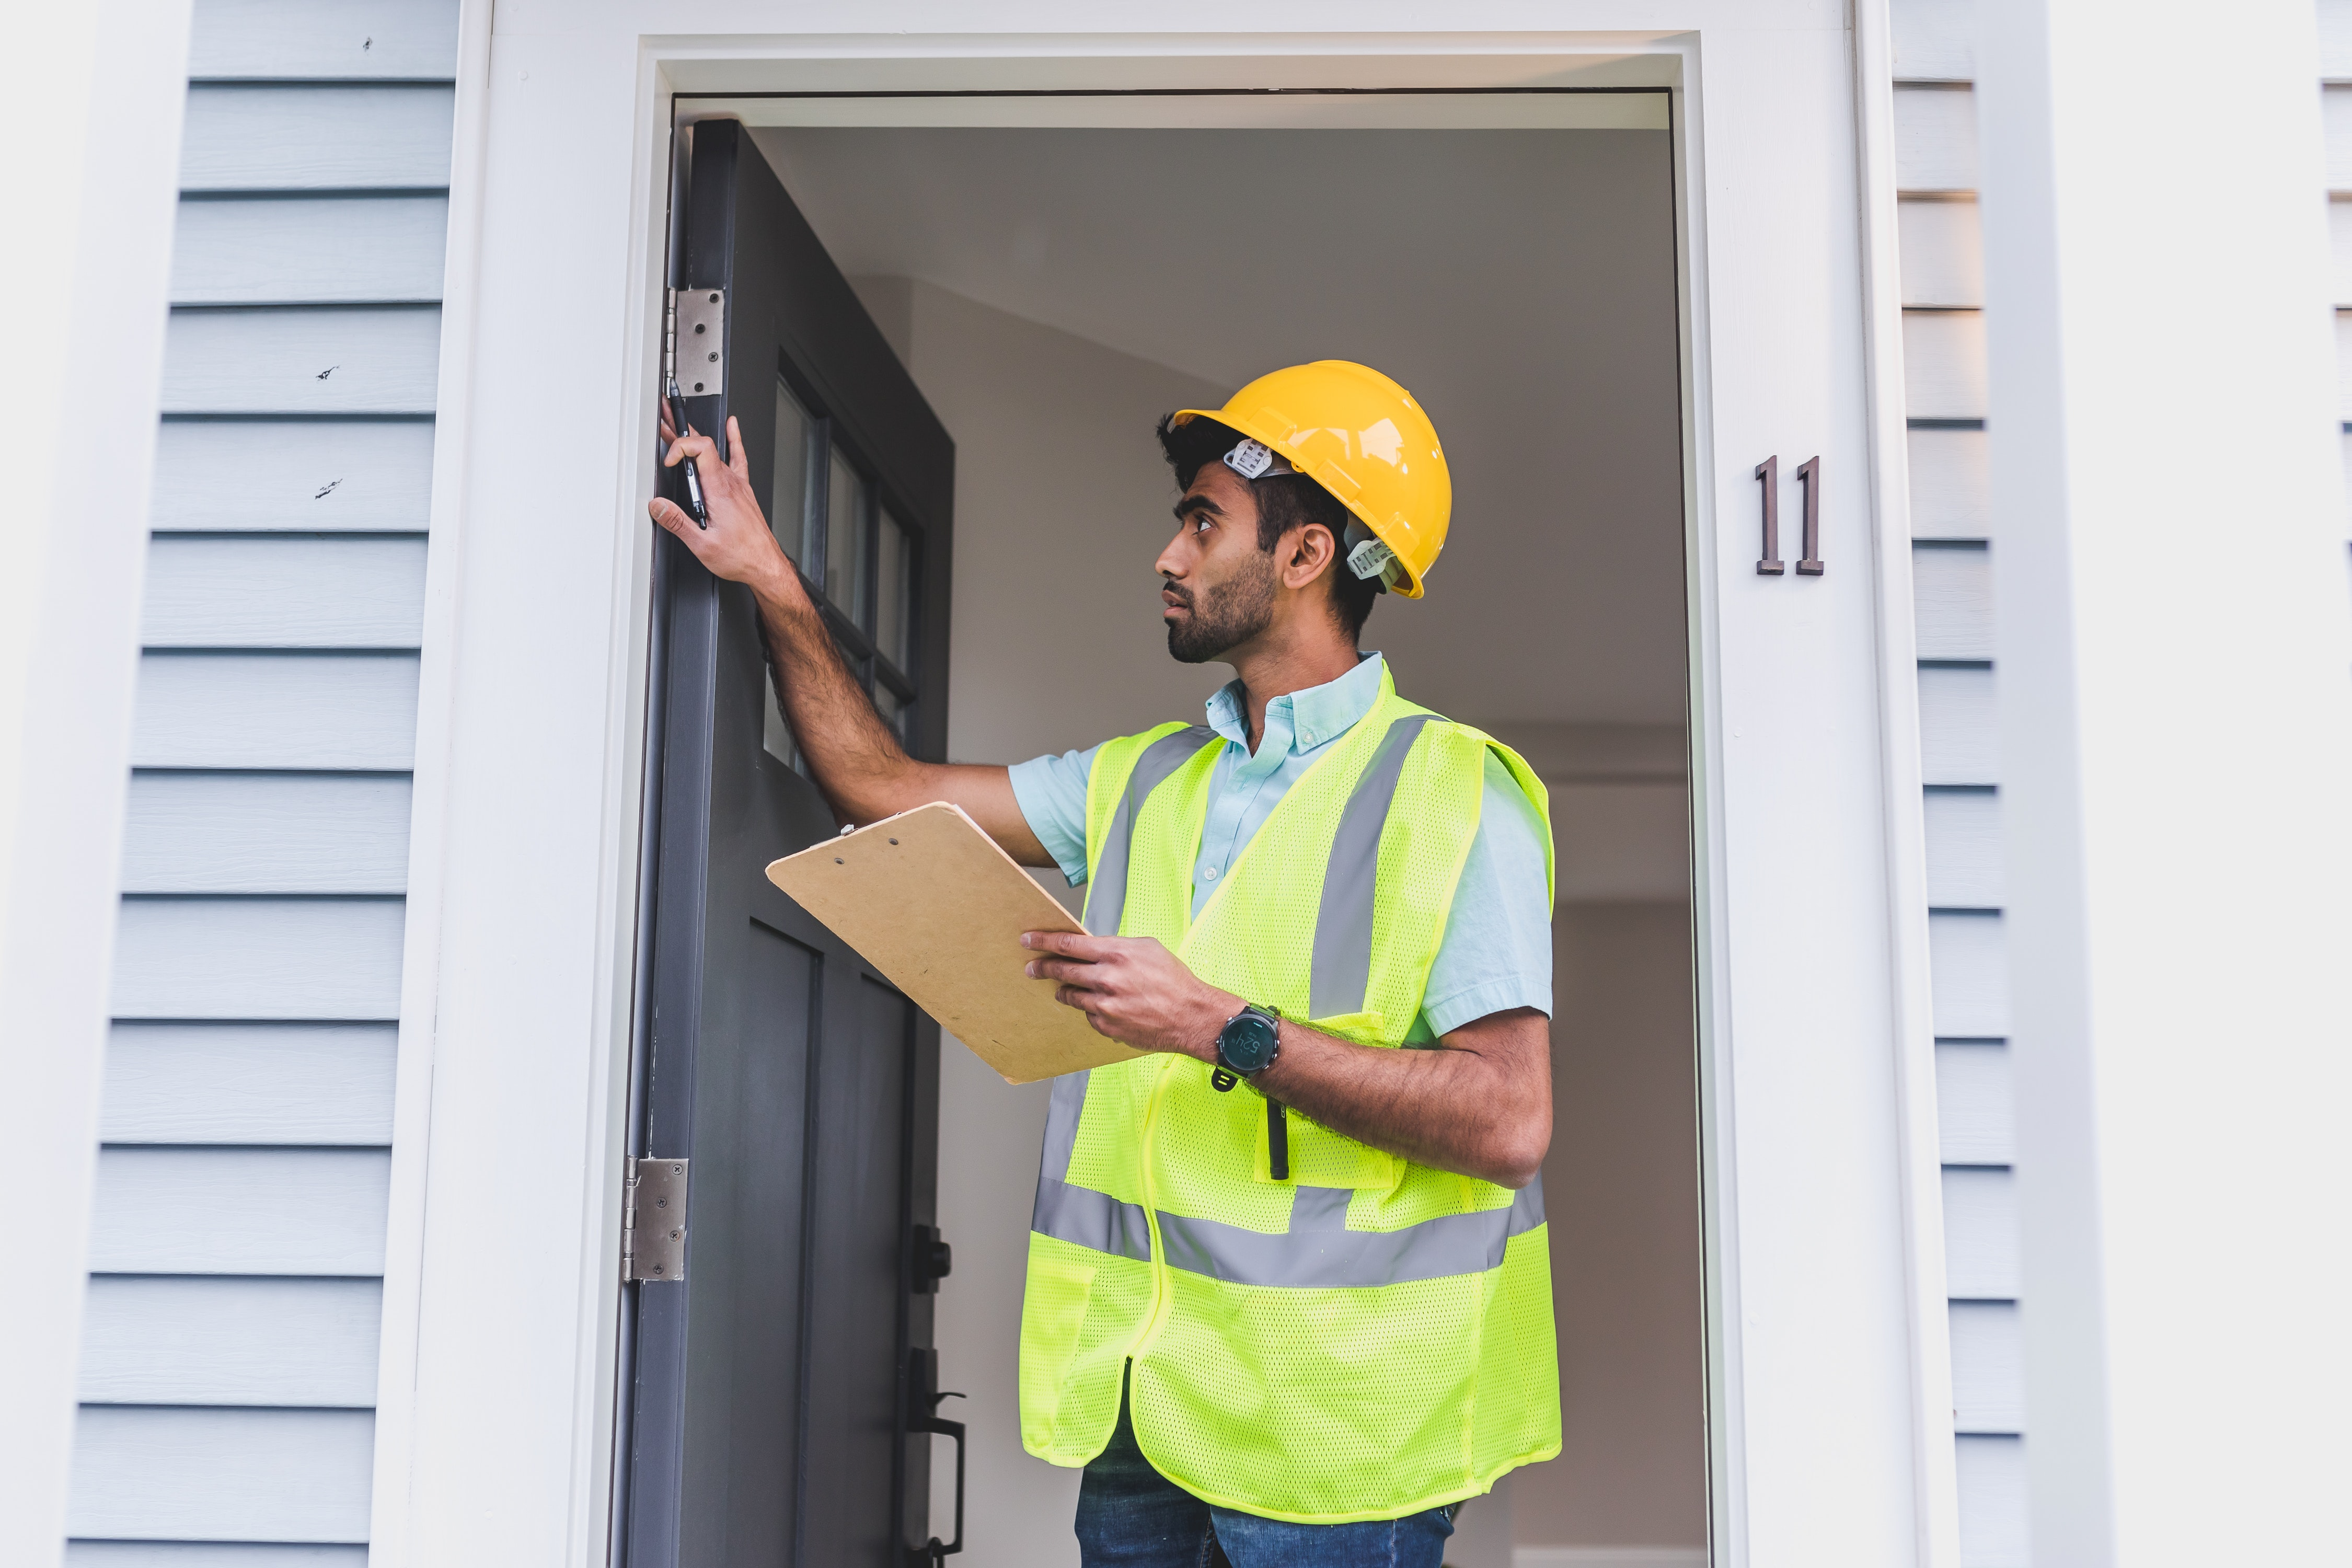Helmet: (1111, 338, 1480, 714)
Reflective vest: (1010, 653, 1571, 1528)
